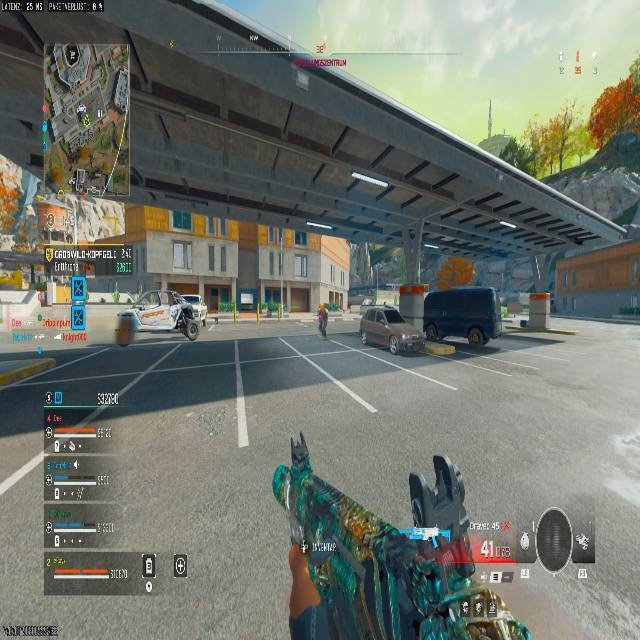head: (320, 303, 325, 309)
player: (170, 299, 199, 341), (315, 303, 328, 338)
